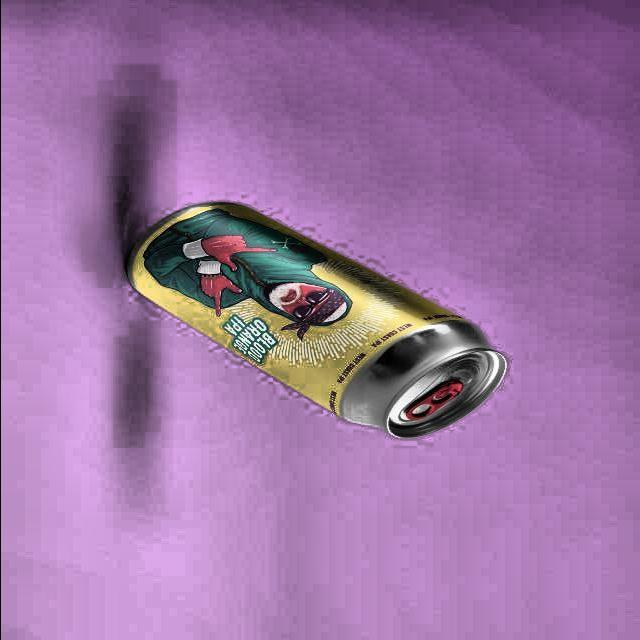litter: (114, 198, 511, 446)
